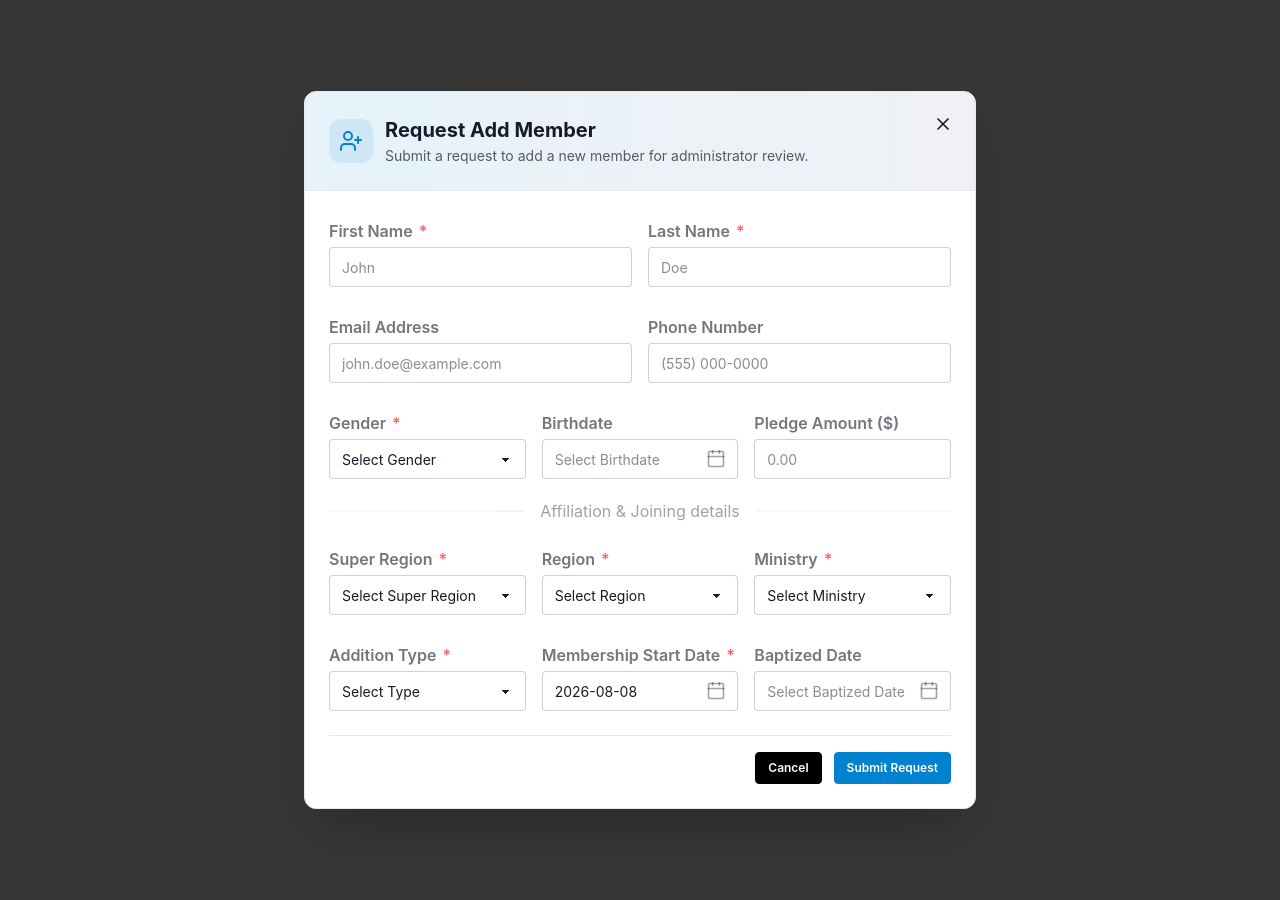
Test case: MemberFormModal › formats standard and international phone inputs correctly
Standard 10 digit number
Type "5550199000" into the field labelled "Phone Number". click: coordinates (800, 363)
box: [648,343,951,383]
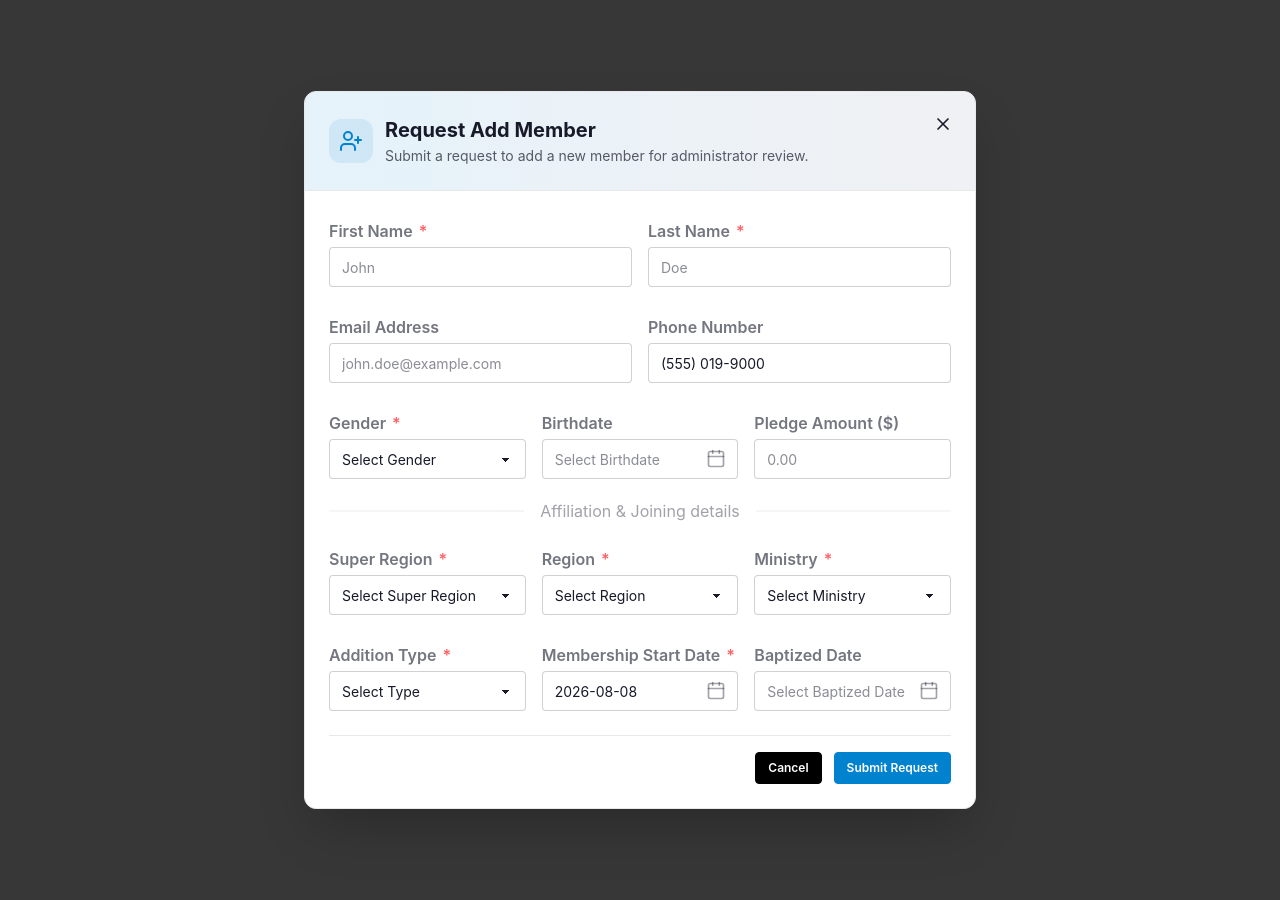
Now the field labelled "Phone Number" holds "(555) 019-9000"
US number starting with 1
Replace the text in the field labelled "Phone Number" with "15550199000". click: coordinates (800, 363)
box: [648,343,951,383]
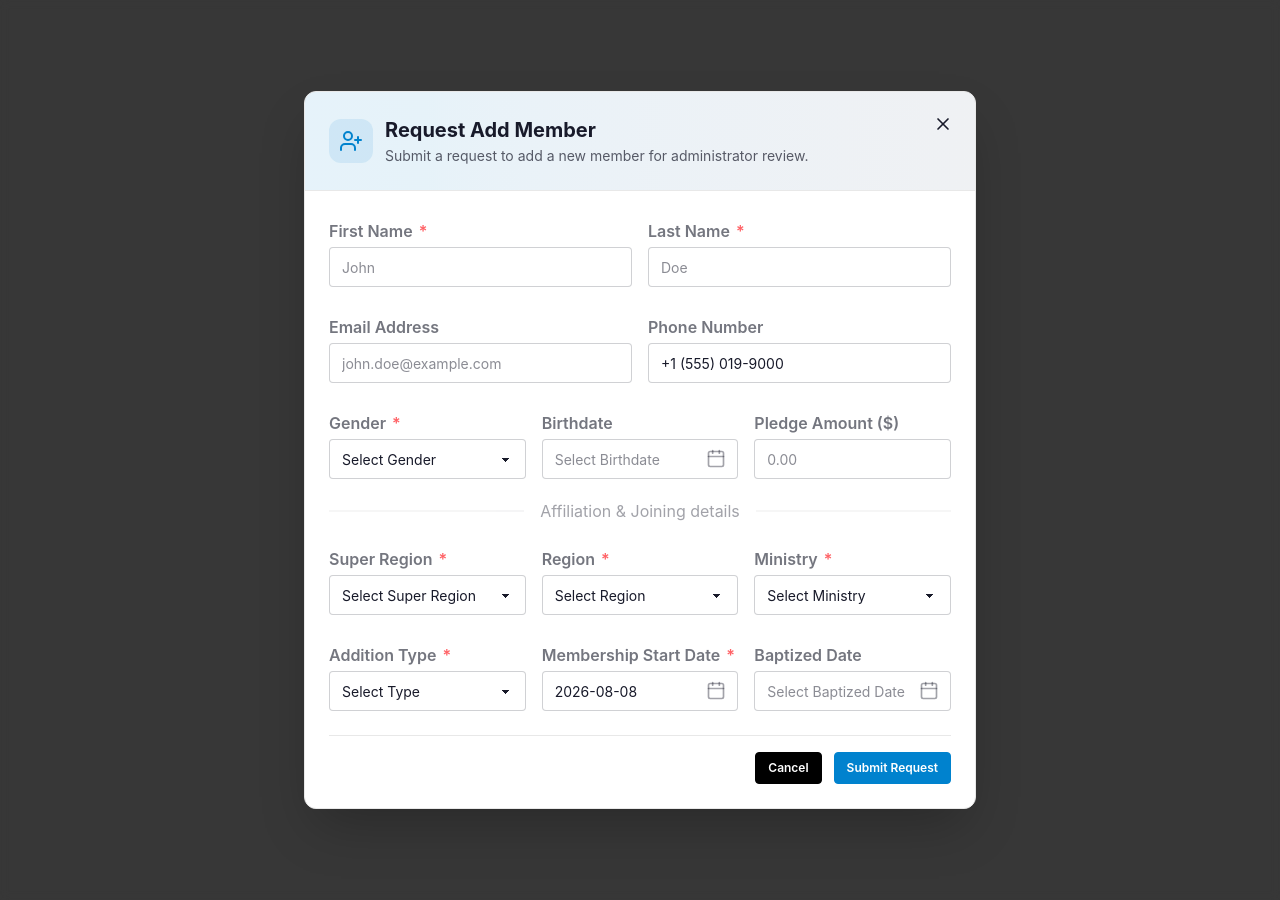
Now the field labelled "Phone Number" holds "+1 (555) 019-9000", box [648,343,951,383]
